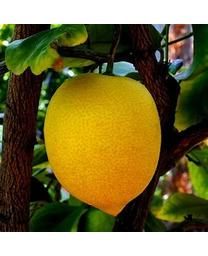lemon: (44, 74, 161, 219)
